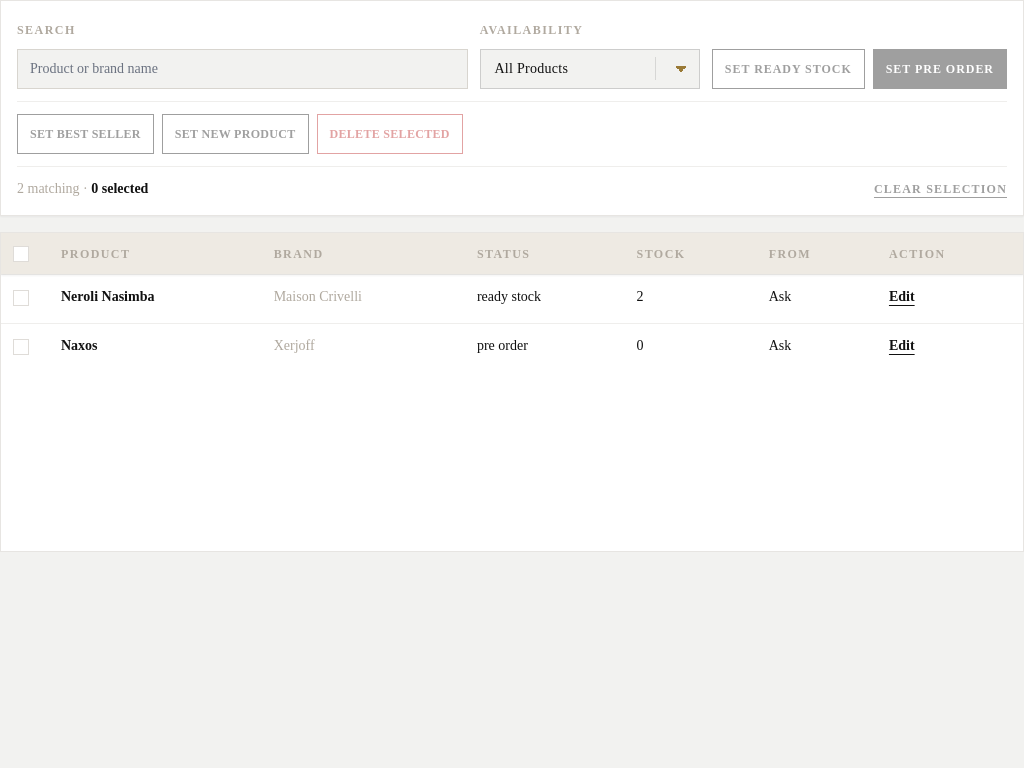
ProductListManager › searches by brand without scrolling through unrelated rows
Type "Xerjoff" into the search field named "Search products" at (242, 69), box [17,49,468,89]
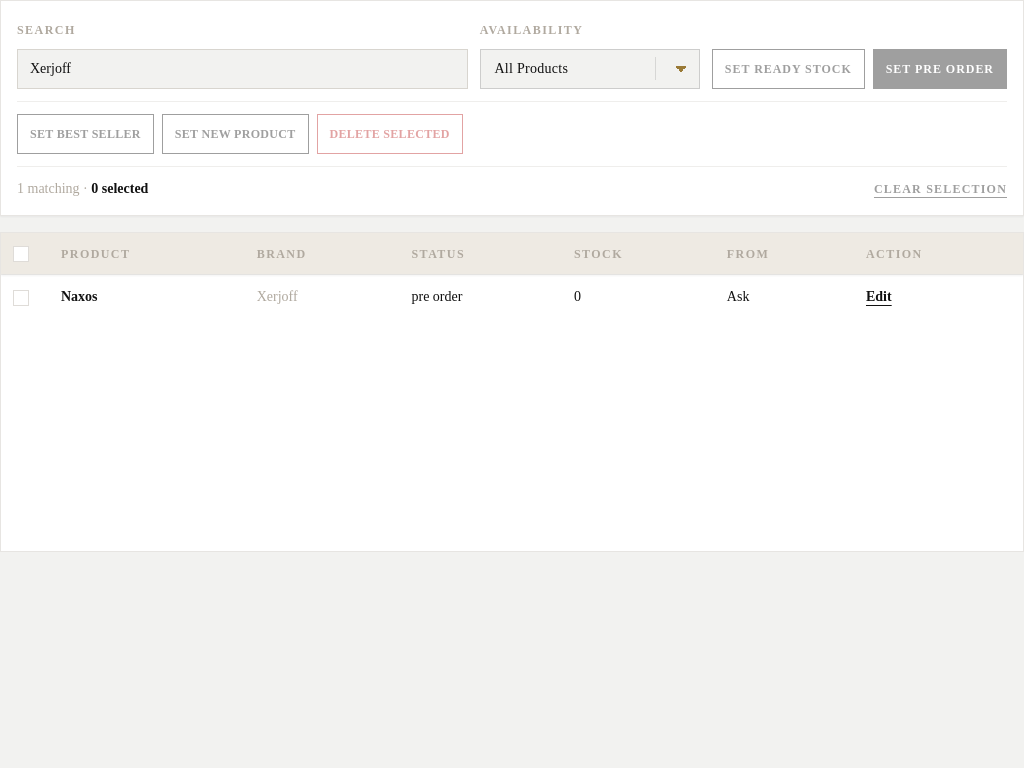
Expected: the text "Naxos" is shown, [49,275,245,323]
Expected: the text "Neroli Nasimba" is gone
